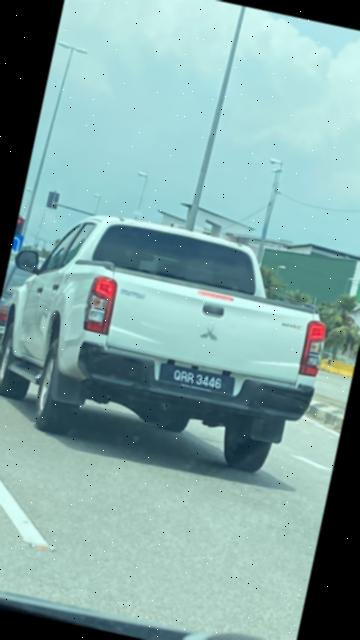License_Plate: (161, 364, 235, 399)
car: (1, 194, 352, 492)
